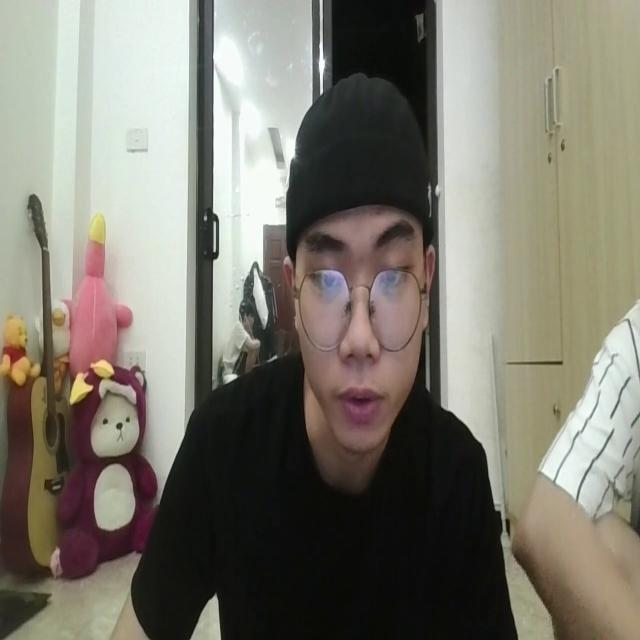extra_person: (522, 273, 640, 640)
student: (114, 64, 514, 640)
